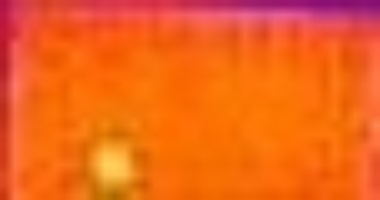Hotspot: (81, 131, 148, 191)
